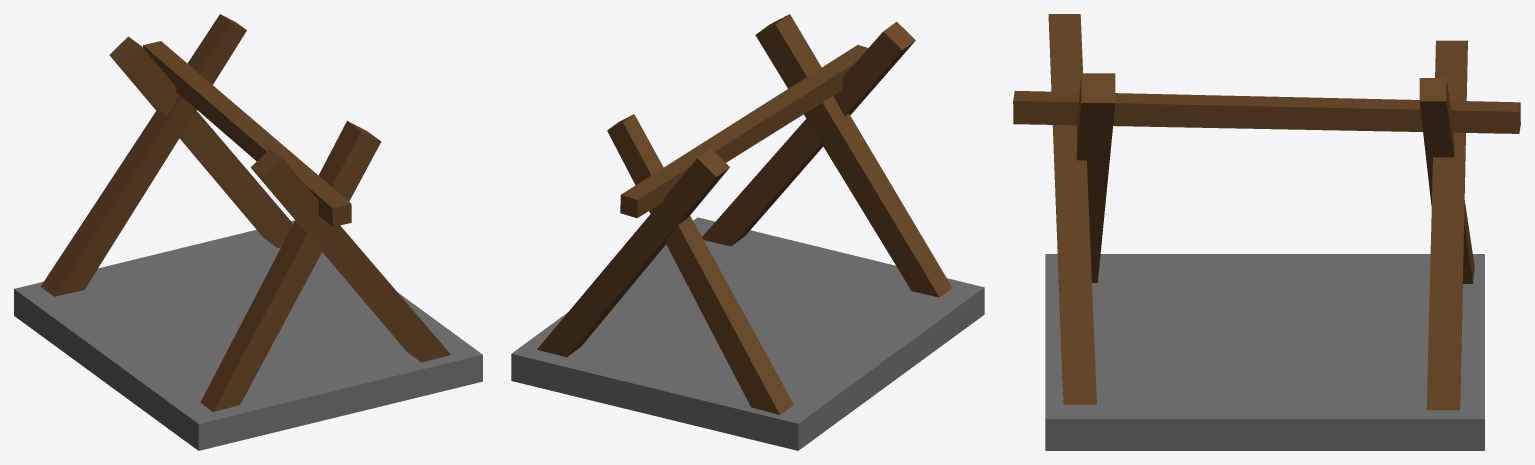
Rendered from railBlock.gltf.
3 renders of one model, left to right at view 1: azimuth 30°, elevation 25°; view 2: azimuth 150°, elevation 25°; view 3: azimuth 270°, elevation 25°, orthographic. The views are drawn at different scales.
Parts seen in each view (by area): view 1: Cube.005, Cube.003, Cube, Cube.001, Cube.002, Cube.004; view 2: Cube.005, Cube, Cube.003, Cube.002, Cube.001, Cube.004; view 3: Cube.005, Cube.004, Cube.001, Cube.002, Cube, Cube.003.
Boxes of the visible parts, box(x1,y1,x2,y2) form: Cube.005: box(14, 220, 482, 450); Cube.003: box(41, 14, 246, 296); Cube: box(200, 121, 381, 411); Cube.001: box(250, 149, 450, 362); Cube.002: box(109, 36, 292, 247); Cube.004: box(143, 41, 351, 226); Cube.005: box(511, 217, 984, 450); Cube: box(755, 14, 952, 297); Cube.003: box(607, 114, 793, 414); Cube.002: box(537, 148, 729, 357); Cube.001: box(702, 21, 915, 246); Cube.004: box(620, 45, 868, 218); Cube.005: box(1045, 254, 1484, 450); Cube.004: box(1013, 90, 1520, 133); Cube.001: box(1048, 14, 1096, 404); Cube.002: box(1426, 40, 1467, 410); Cube: box(1076, 73, 1115, 282); Cube.003: box(1419, 78, 1474, 283).
Size of the model in its own units: 6.95 by 6.32 by 9.04.
